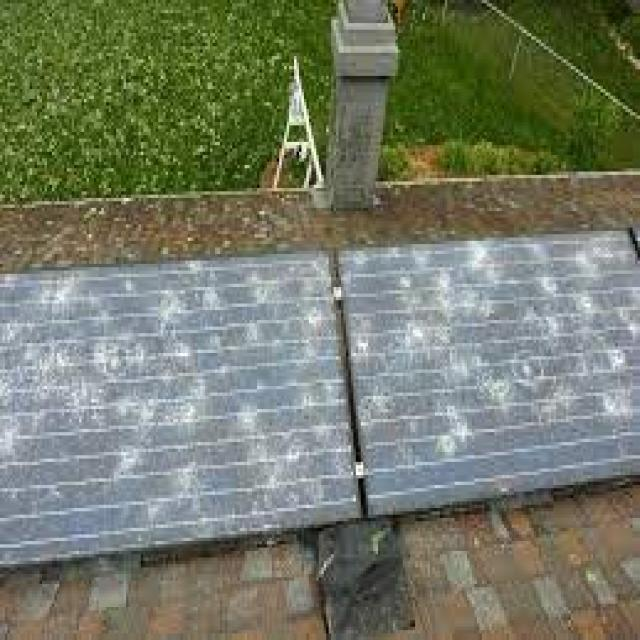faulty: (0, 265, 358, 542), (325, 245, 640, 490)
